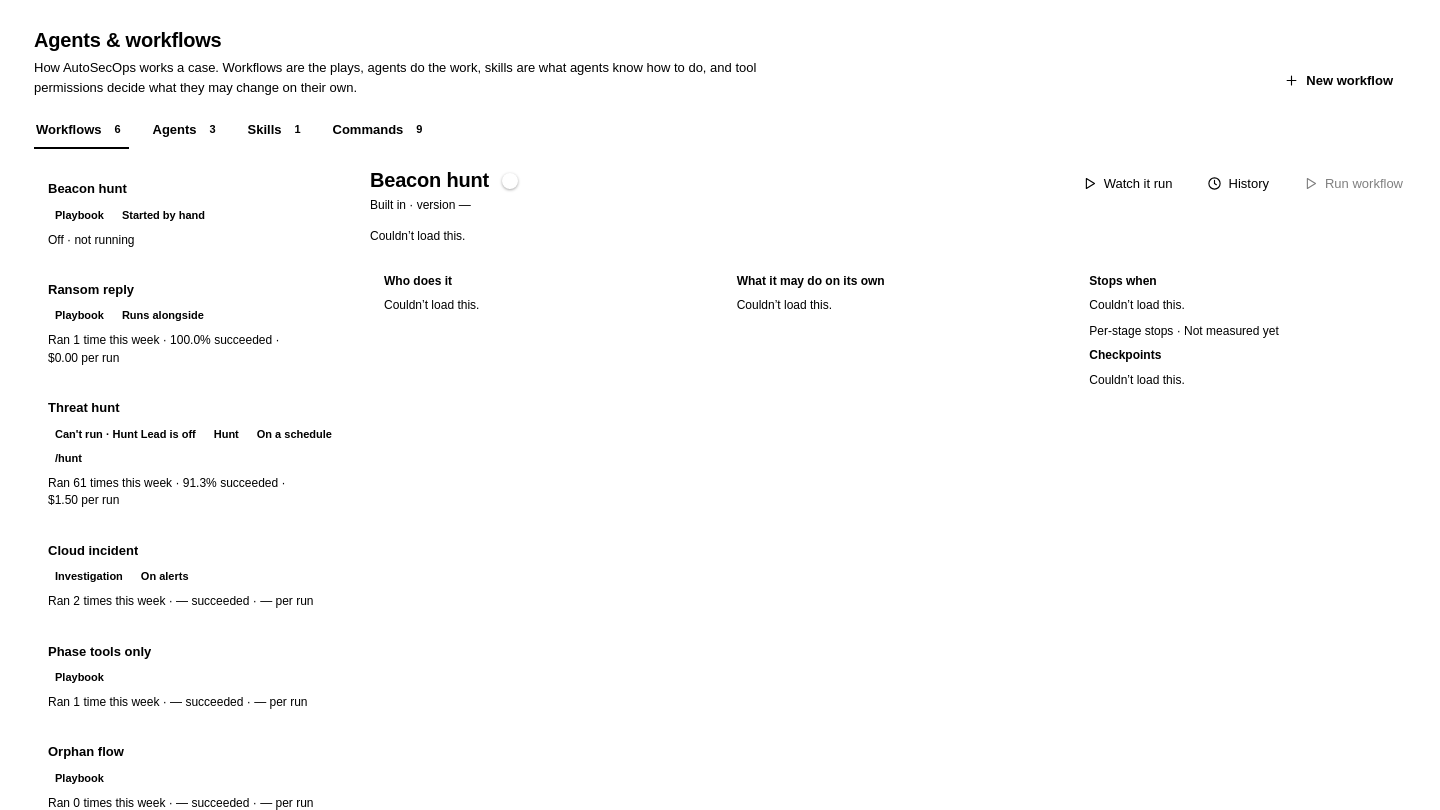
Scenario: workflow catalog cards › shows the reader pane beside the cards and follows the selected card
This screenshot has width=1440, height=810.
Expected: the text "Beacon hunt" is shown, [48,180,127,198]
Expected: the heading "Beacon hunt" is shown, [370,168,489,193]
Click the text "Threat hunt": (84, 408) [48,399,120,417]
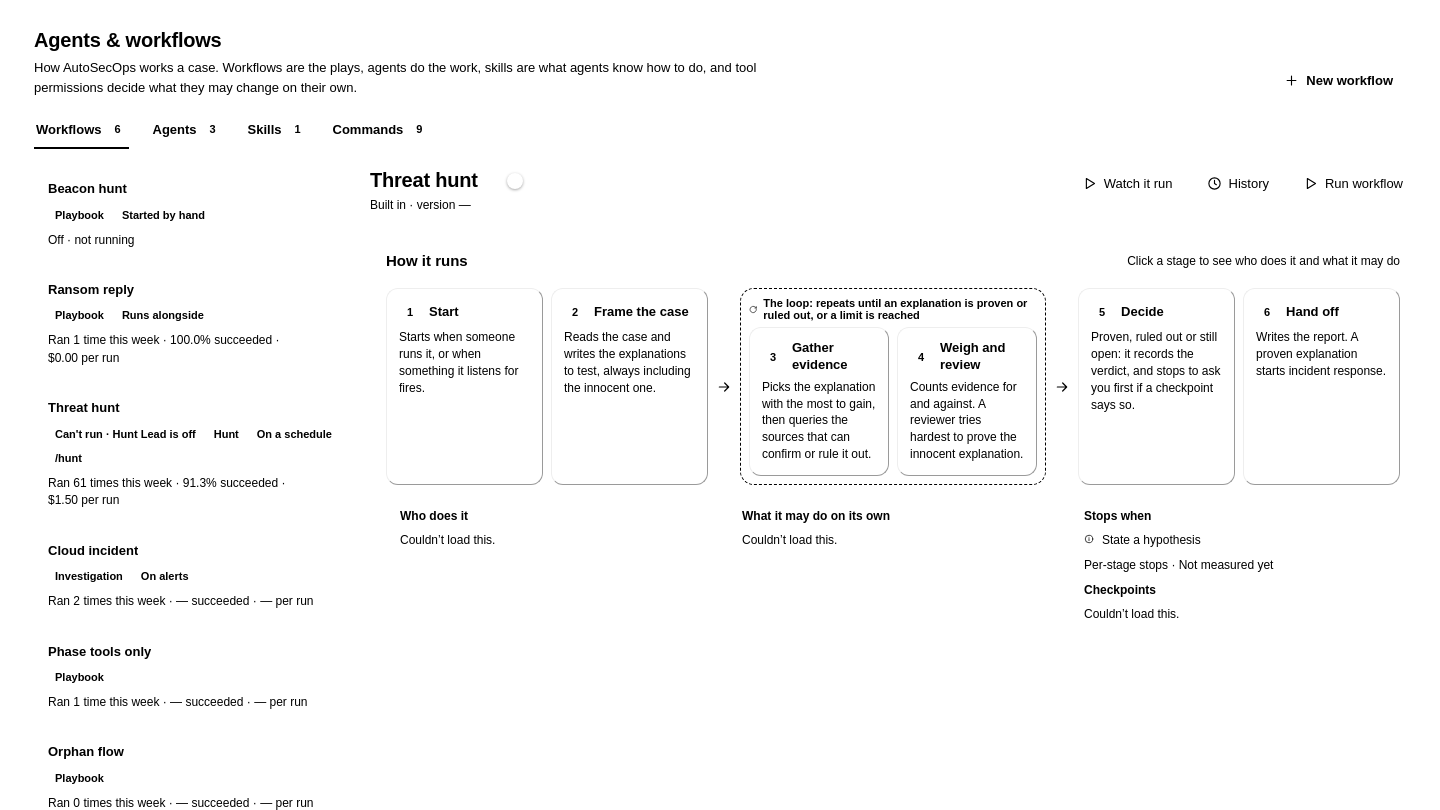
Expected: the text "Beacon hunt" is shown, [48,180,127,198]
Now the element "How it runs" is shown, box [370,228,1416,654]
Now the heading "Threat hunt" is shown, box [370,168,478,193]
